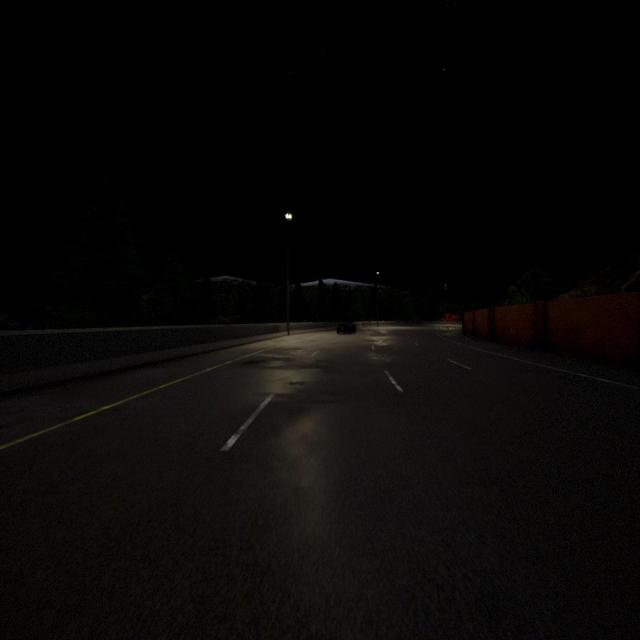Vehicle: (336, 321, 356, 335), (440, 313, 458, 321)
